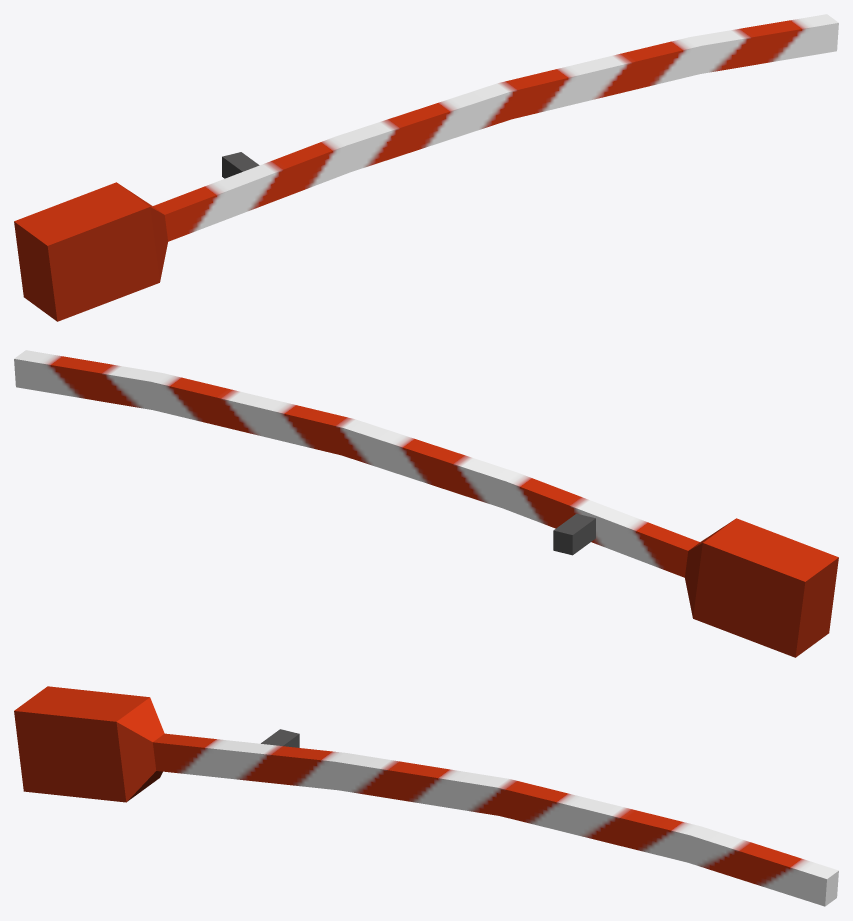
Rendered from Barrier.fbx.
3 renders of one model, top to bottom at view 1: azimuth 30°, elevation 25°; view 2: azimuth 150°, elevation 25°; view 3: azimuth 330°, elevation 25°, orthographic.
Visible parts, largest first — view 1: Barrier; view 2: Barrier; view 3: Barrier.
Part boxes in pixels (x1=…): Barrier: x1=14, y1=14, x2=838, y2=321; Barrier: x1=14, y1=350, x2=838, y2=657; Barrier: x1=14, y1=686, x2=838, y2=906.
Size of the model in its own units: 317 by 41.11 by 31.38.
1 material, 1 textured.
